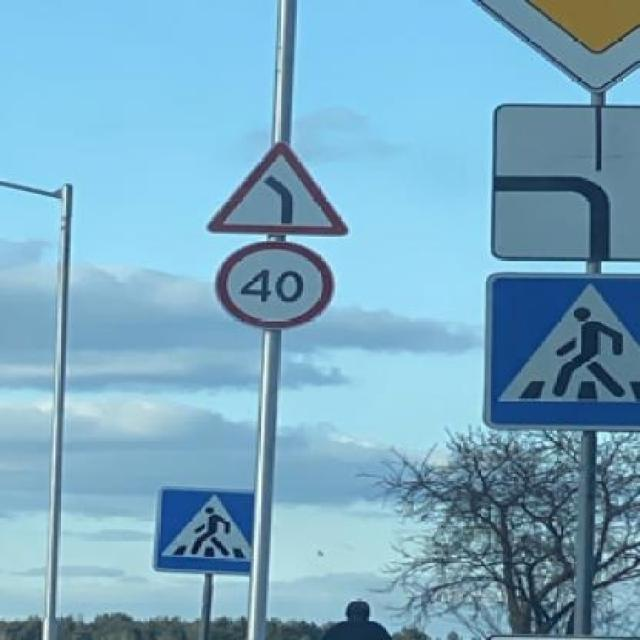forb_speed_over_40: (218, 246, 336, 328)
